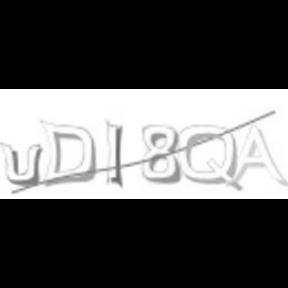8: (142, 122, 182, 186)
A: (230, 122, 288, 190)
D: (39, 118, 97, 188)
I: (102, 118, 124, 188)
Q: (176, 124, 244, 190)
u: (0, 142, 44, 188)
